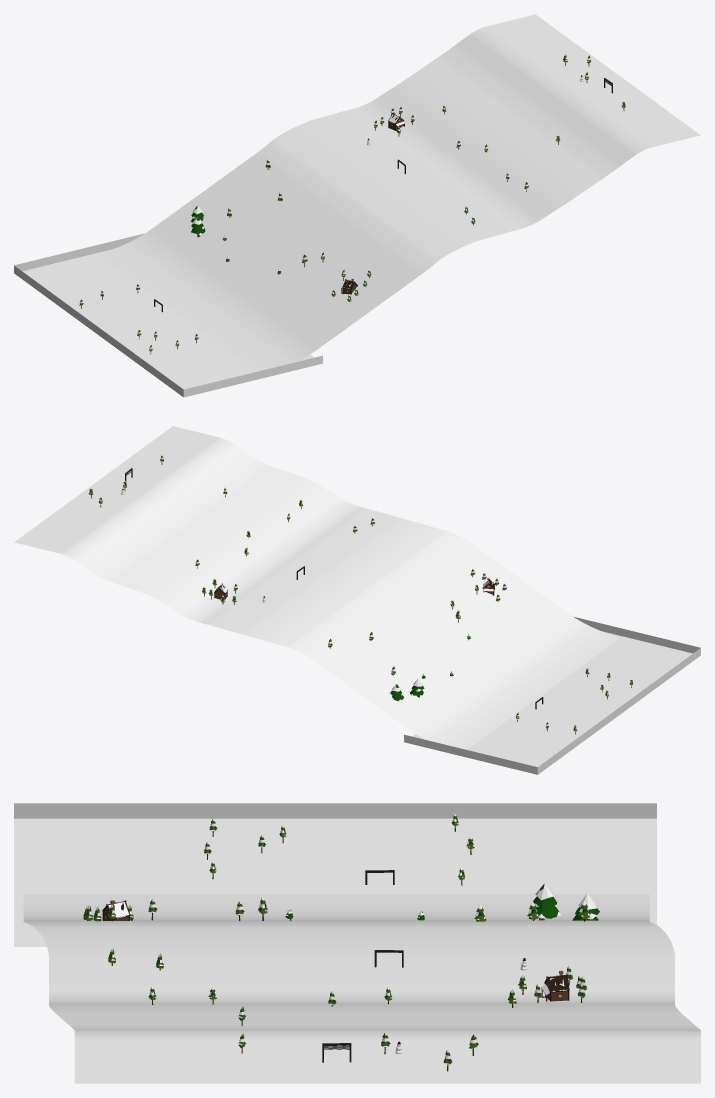
Rendered from skii-map.glb.
3 renders of one model, top to bottom at view 1: azimuth 30°, elevation 25°; view 2: azimuth 150°, elevation 25°; view 3: azimuth 270°, elevation 25°, orthographic. The views are drawn at different scales.
Visible parts, largest first — view 1: snow, ground; view 2: snow, ground; view 3: snow, ground, ghost-cabin.001, 2ghost-tree.004, ghost-cabin.002.
Boxes of the visible parts, x1,y1,x2,y2 form: snow: (98, 14, 700, 371); ground: (14, 233, 322, 397); snow: (14, 426, 619, 749); ground: (404, 616, 700, 774); snow: (23, 894, 700, 1083); ground: (14, 803, 656, 946); ghost-cabin.001: (541, 970, 569, 1001); 2ghost-tree.004: (533, 883, 560, 920); ghost-cabin.002: (102, 900, 133, 920).
Size of the model in its own units: 1884 by 455 by 1110.
6 materials, 6 textured.
